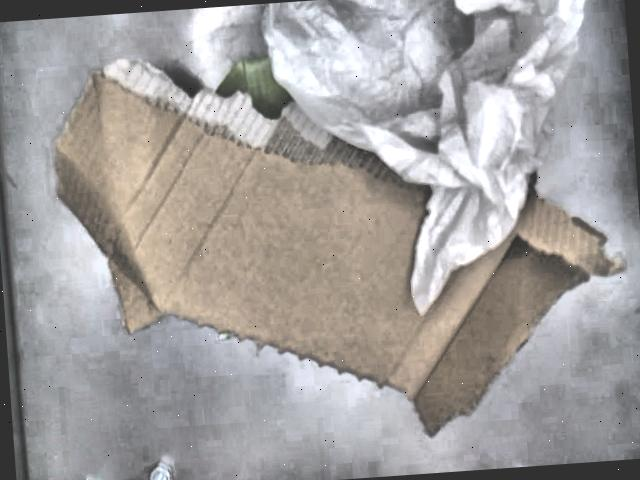Paper: (51, 0, 623, 437)
